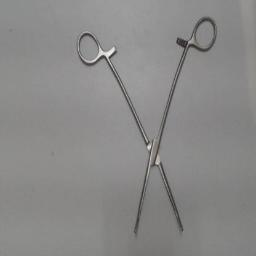Lahey Forceps: (72, 12, 218, 238)
